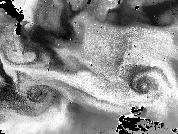CE: (20, 79, 71, 112), (125, 65, 168, 103)
